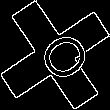O_SW: (22, 23, 88, 87)
